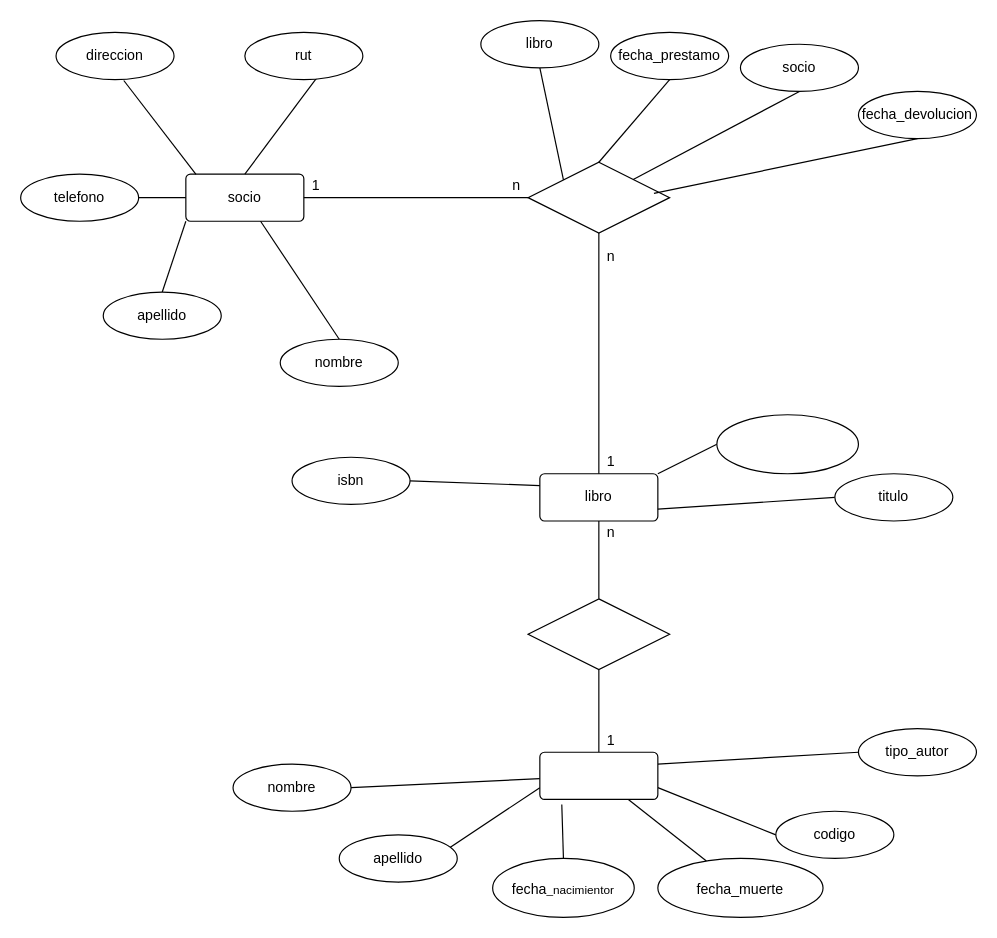
The diagram is 997 pixels wide and 938 high, and some of its shapes have lost their labels. Each missing label, with the centre of its shape:
autor: pixel 598 775
numero_de_paginas: pixel 787 444
solicita prestamo: pixel 598 197
tiene: pixel 598 634
